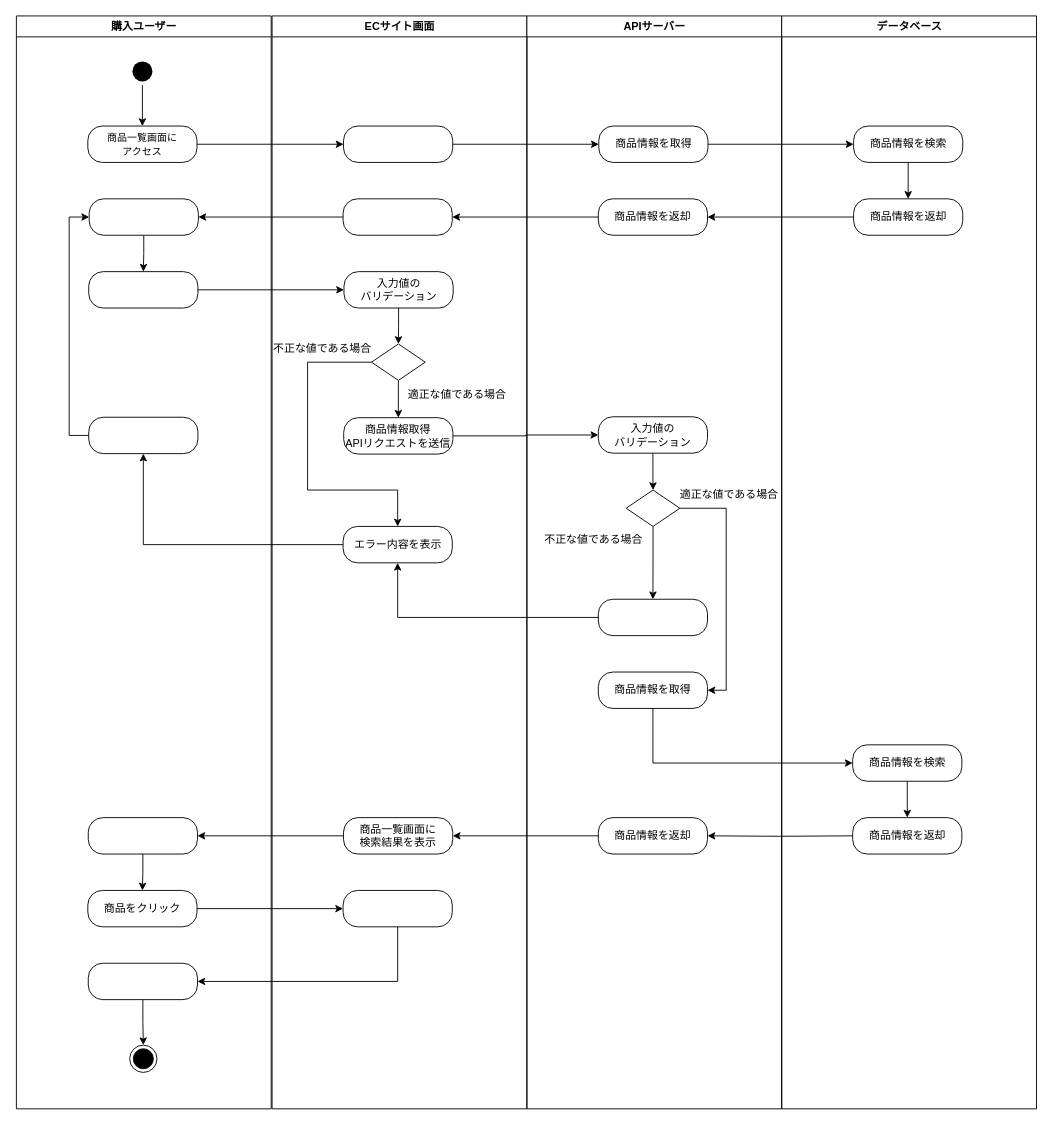
Some shapes in this 1052 by 1125 pixel diagram are drawn without their labels. Here are the shapes that lost their labels. From the top down, the centre of each, then its label:
the point at 398,143: 商品情報取得 API リクエストを送信
the point at 143,216: 検索欄に キーワードを入力
the point at 397,216: 商品一覧画面を表示
the point at 143,289: 検索ボタンを押下
the point at 143,435: エラー内容を確認
the point at 652,617: エラーを返却
the point at 142,835: 商品一覧画面を確認
the point at 397,908: 商品詳細画面を 表示
the point at 142,981: 商品の詳細を確認
